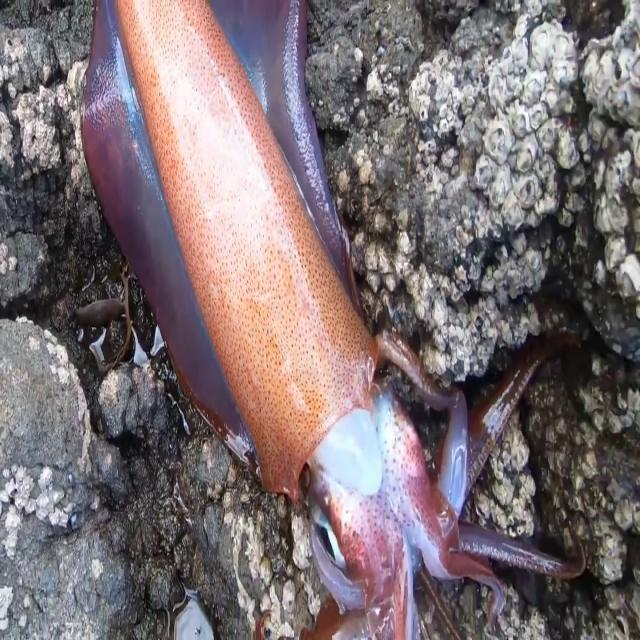squid: (79, 0, 589, 640)
